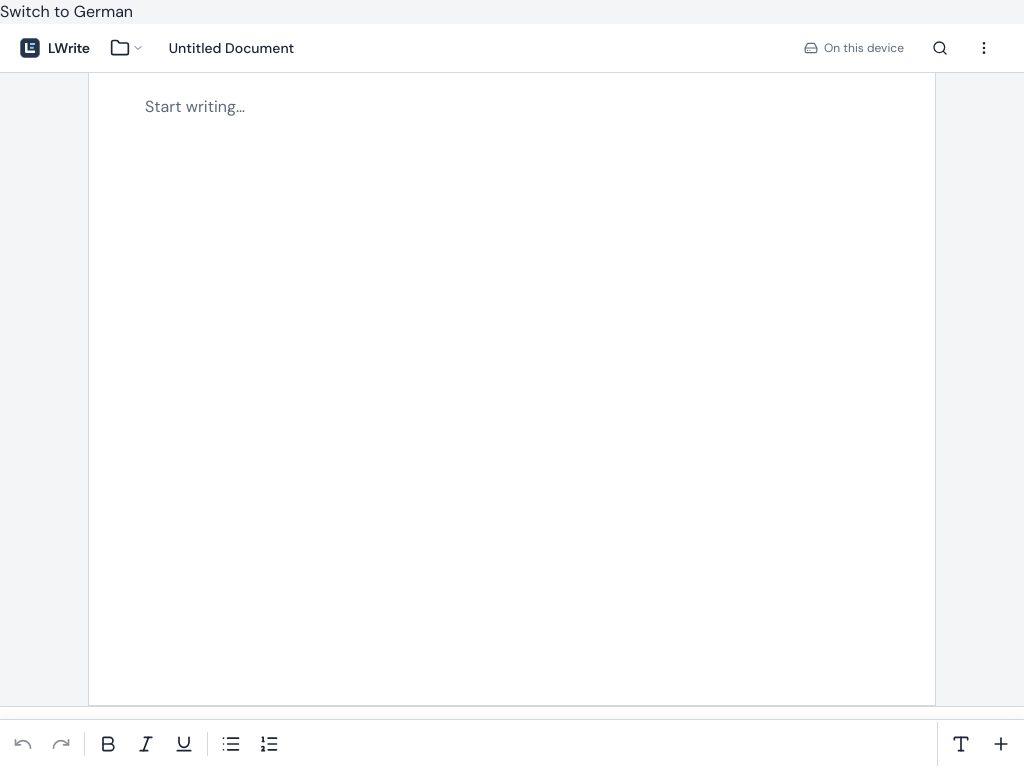
Test: RichTextEditor on phones › docks a compact toolbar and keeps the header to one row
The image size is (1024, 768).
Check: the button named "Text formatting" is shown, box x1=942 y1=722 x2=980 y2=766
What coordinates should you click on to do the following:
click the button named "Preferences"
I would click on:
 (984, 48)
Its box is x1=964 y1=28 x2=1004 y2=68.
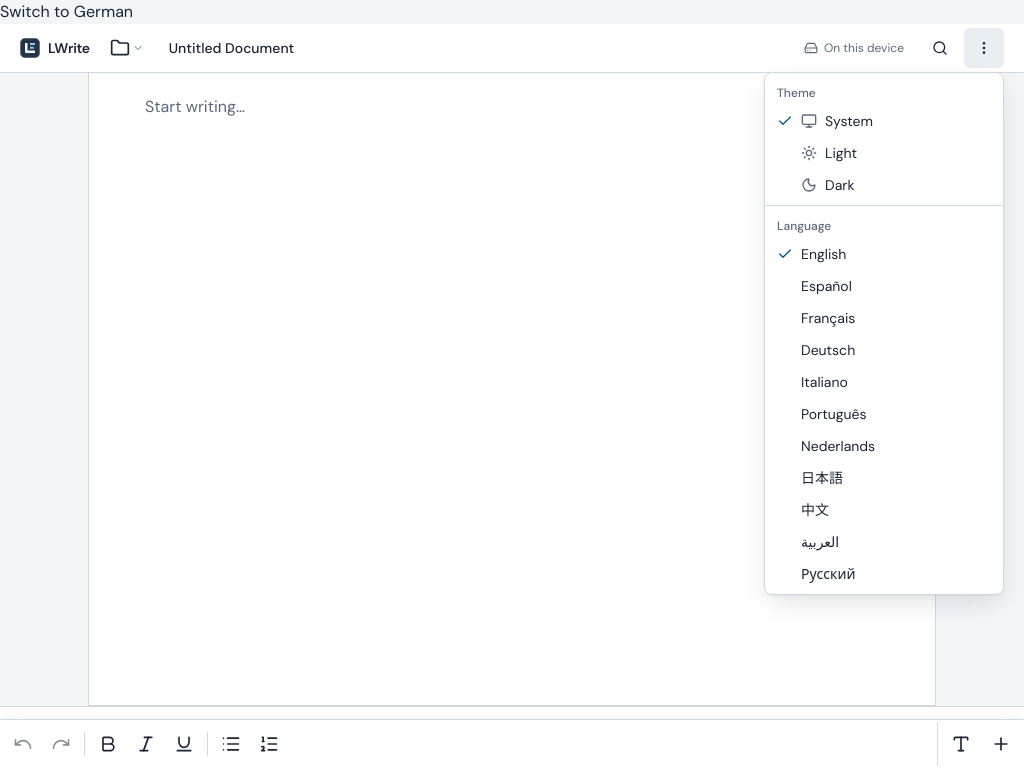
Check: the message "On this device" is shown, box x1=800 y1=40 x2=912 y2=56
Check: the menu item "Dark" is shown, box x1=801 y1=176 x2=854 y2=194
Check: the menu item "Deutsch" is shown, box x1=801 y1=341 x2=855 y2=359
